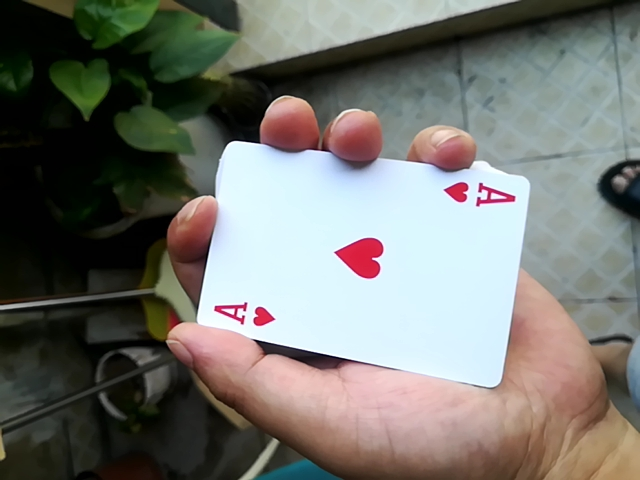hx a: (186, 129, 518, 381)
